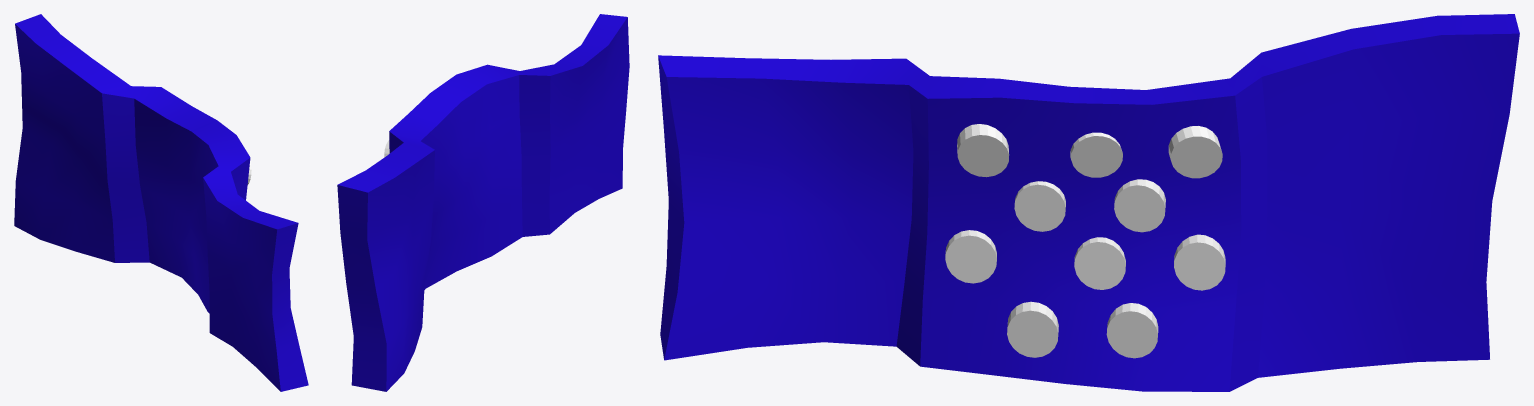
File: Deseases_03.fbx
The picture shows the model from 3 angles, left to right: view 1: azimuth 30°, elevation 25°; view 2: azimuth 150°, elevation 25°; view 3: azimuth 270°, elevation 25°; orthographic projection. The views are drawn at different scales.
Visible parts, largest first — view 1: Pavement; view 2: Pavement; view 3: Pavement.
Boxes of the visible parts, box(x1,y1,x2,y2) form: Pavement: box(14, 14, 308, 391); Pavement: box(337, 14, 629, 391); Pavement: box(658, 14, 1519, 391).
Size of the model in its own units: 22.47 by 46.42 by 110.
